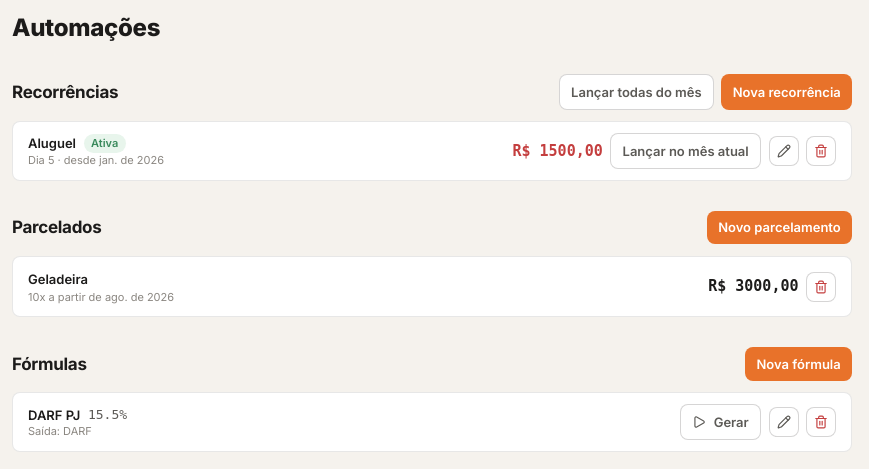
Test: FinanceAutomationsPage › launches all recurrences of the current real month
Expected: the heading "Recorrências" is shown, [12,79,118,105]
Click the button "Lançar todas do mês".
click(636, 92)  # box [559,74,714,110]
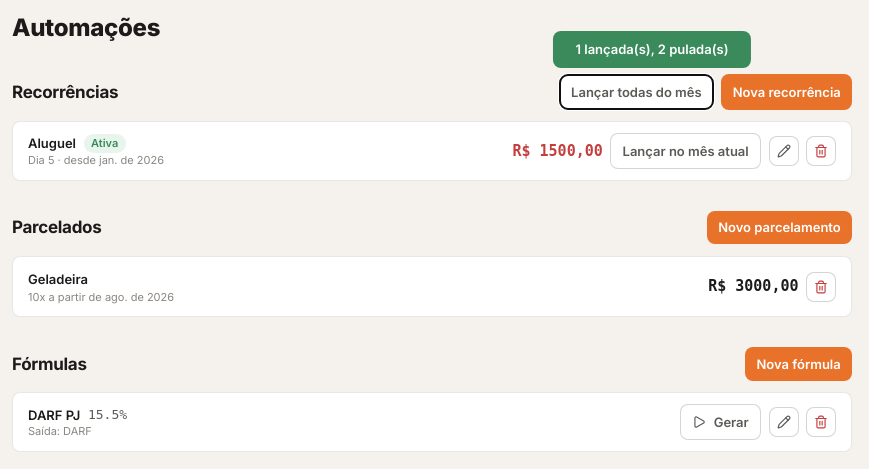
Result: the message reads "1 lançada(s), 2 pulada(s)" at [576,41,729,57]
